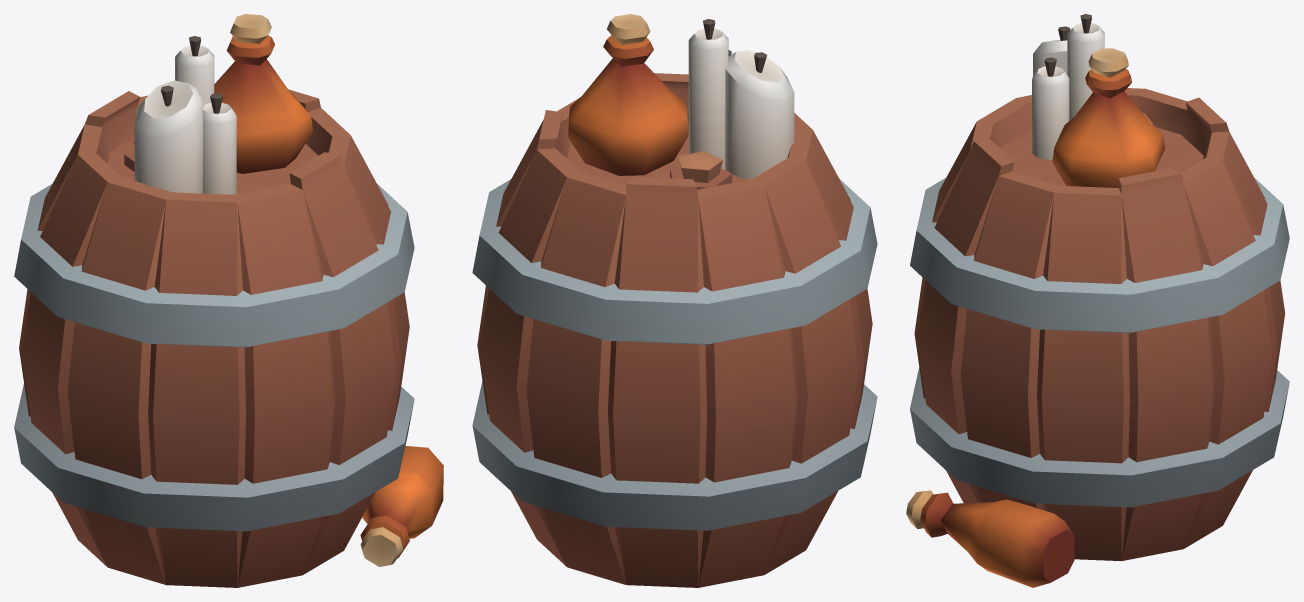
Rendered from barrel-large-decorated-gltf.glb.
3 views of the same model, side by side, from view 1: azimuth 30°, elevation 25°; view 2: azimuth 150°, elevation 25°; view 3: azimuth 270°, elevation 25° (orthographic). The views are drawn at different scales.
Visible parts, largest first — view 1: barrel_large_decorated; view 2: barrel_large_decorated; view 3: barrel_large_decorated.
Part boxes in pixels (bbox=[...]): barrel_large_decorated: bbox=[14, 14, 443, 587]; barrel_large_decorated: bbox=[472, 14, 877, 587]; barrel_large_decorated: bbox=[906, 14, 1289, 587].
Size of the model in its own units: 1.94 by 2.56 by 1.86.
Materials: 1 (1 with a texture image).
